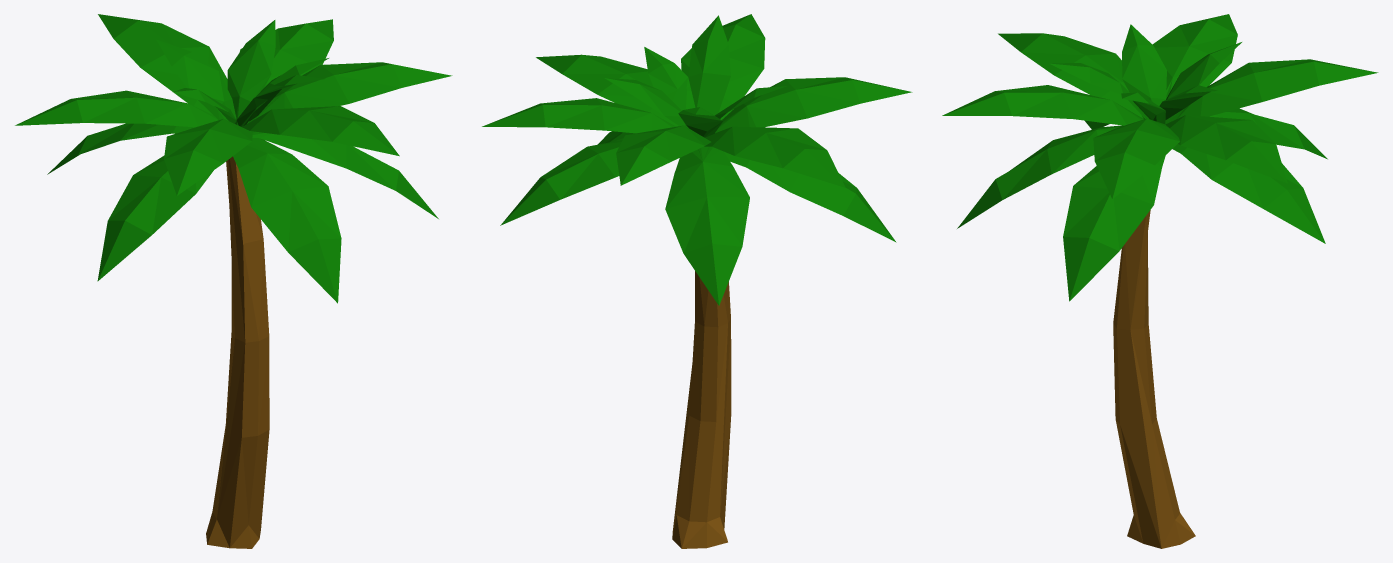
The model's file is palm_tree1.obj.
3 views of the same model, side by side, from view 1: azimuth 30°, elevation 25°; view 2: azimuth 150°, elevation 25°; view 3: azimuth 270°, elevation 25° (orthographic). The views are drawn at different scales.
Visible parts, largest first — view 1: Object.1; view 2: Object.1; view 3: Object.1.
Part boxes in pixels (left/top/right/bottom): Object.1: left=15, top=14, right=452, bottom=548; Object.1: left=482, top=14, right=912, bottom=548; Object.1: left=942, top=14, right=1378, bottom=548.
Size of the model in its own units: 3.25 by 4 by 3.24.
